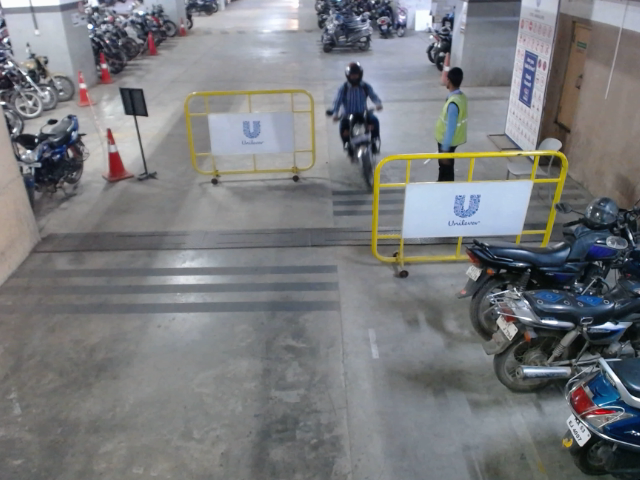with_helmet: (340, 60, 366, 87)
